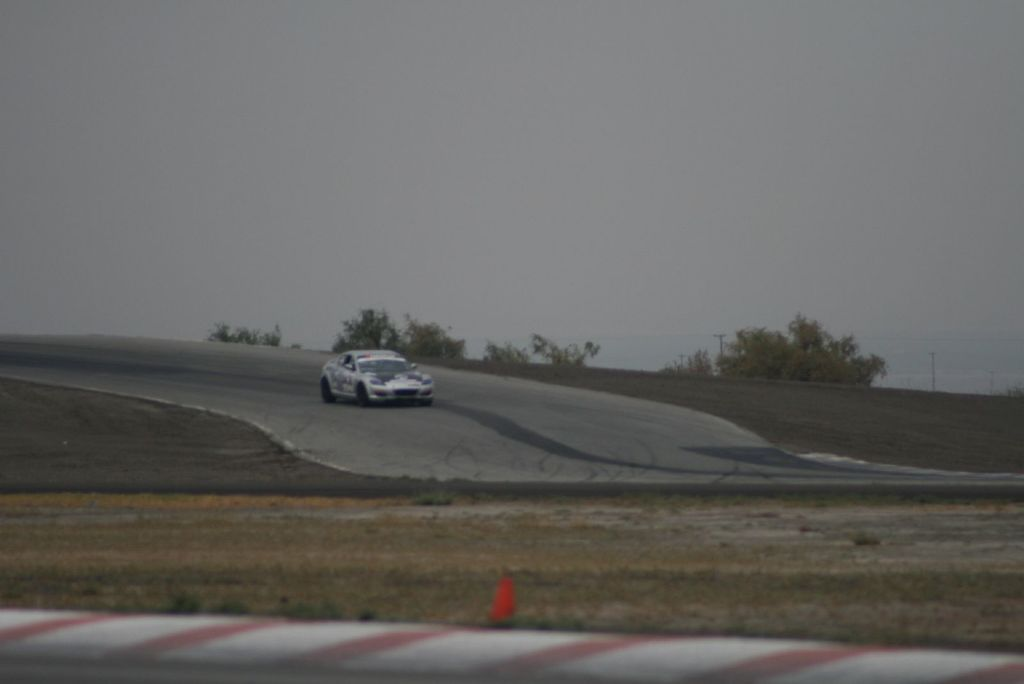cars: (319, 346, 429, 409)
